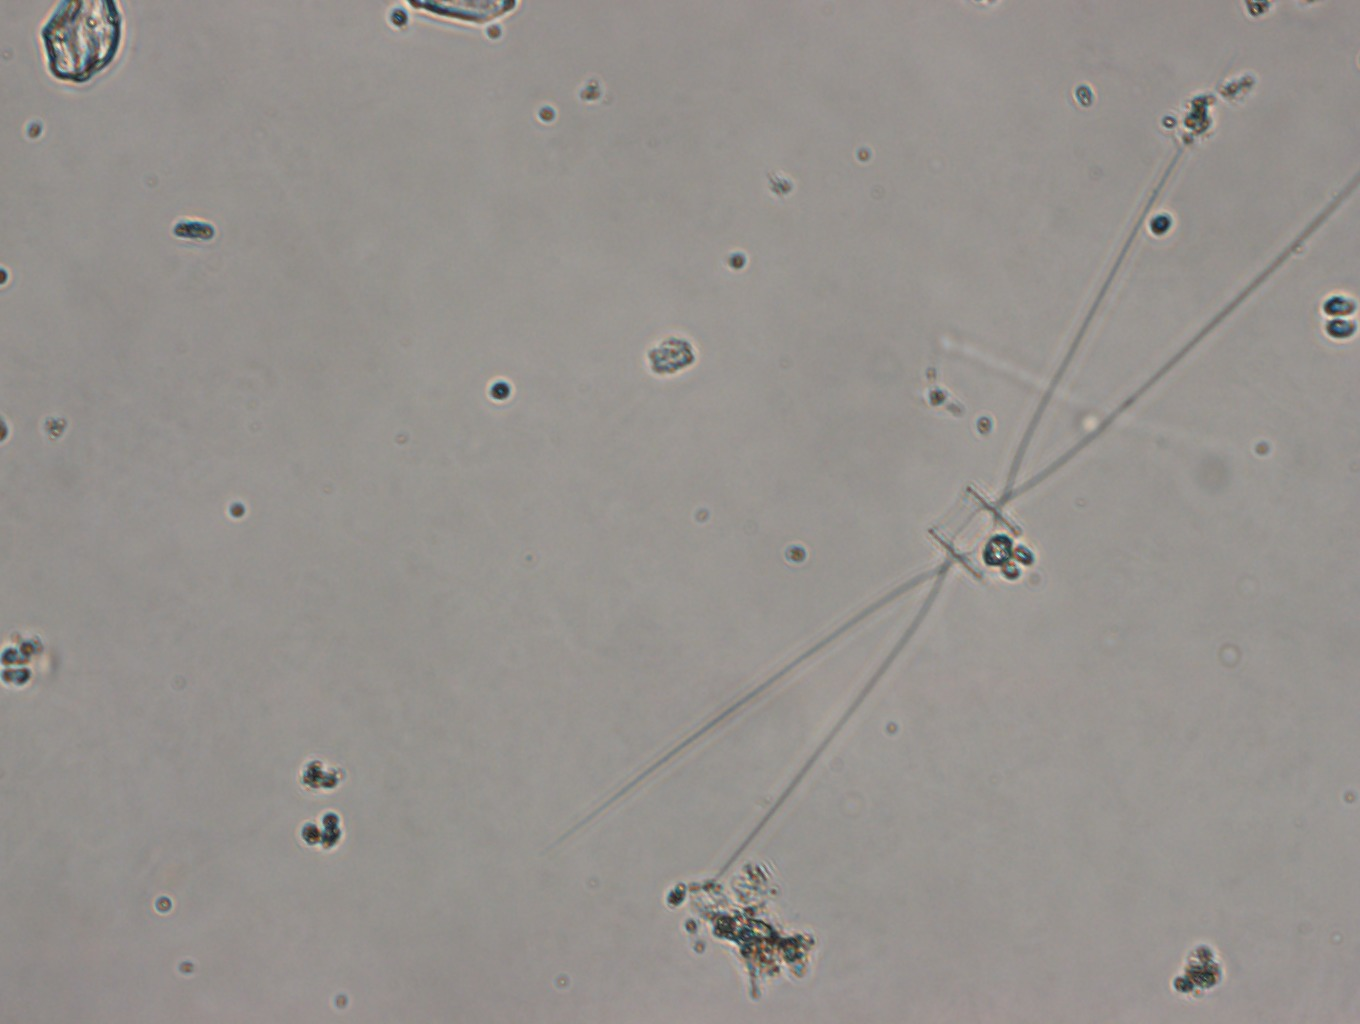chaetoceros: (563, 126, 1360, 888)
